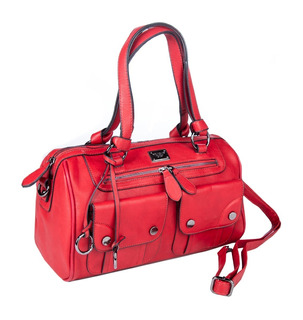cartera: (21, 22, 281, 296)
